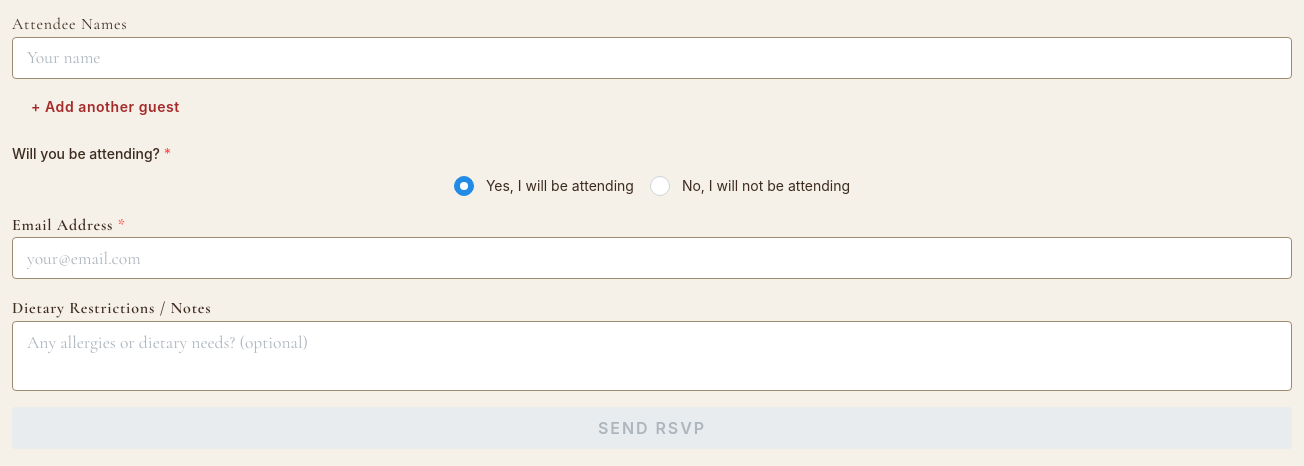
Scenario: RsvpForm › form submission › shows a success message after a successful submission
The width and height of the screenshot is (1304, 466).
Type "Jon Bernard" into the field with placeholder "Your name" at coordinates (652, 58), box [12, 37, 1292, 79]
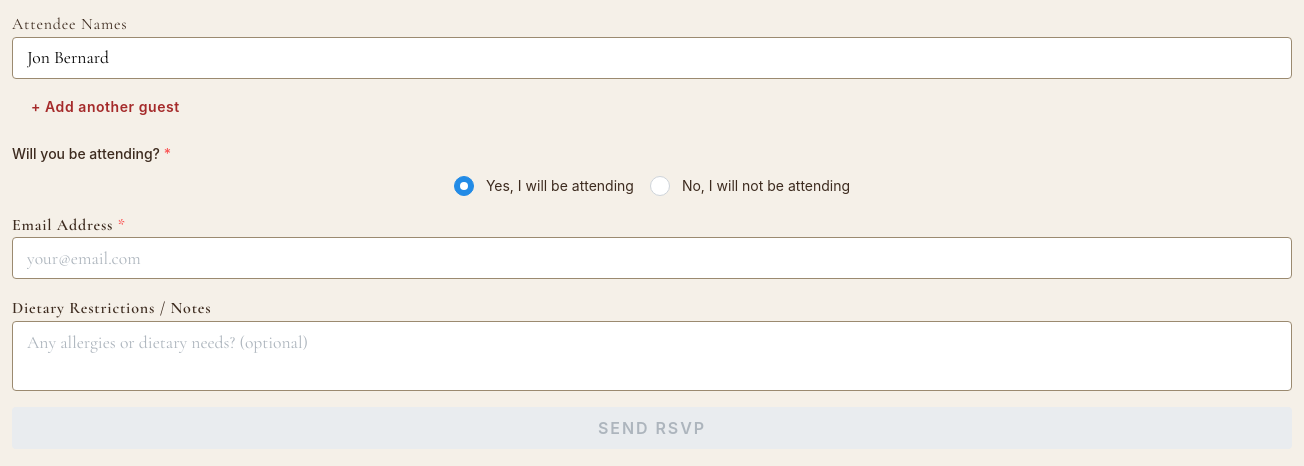
Type "jon@example.com" into the field with placeholder "your@email.com" at coordinates (652, 258), box [12, 237, 1292, 279]
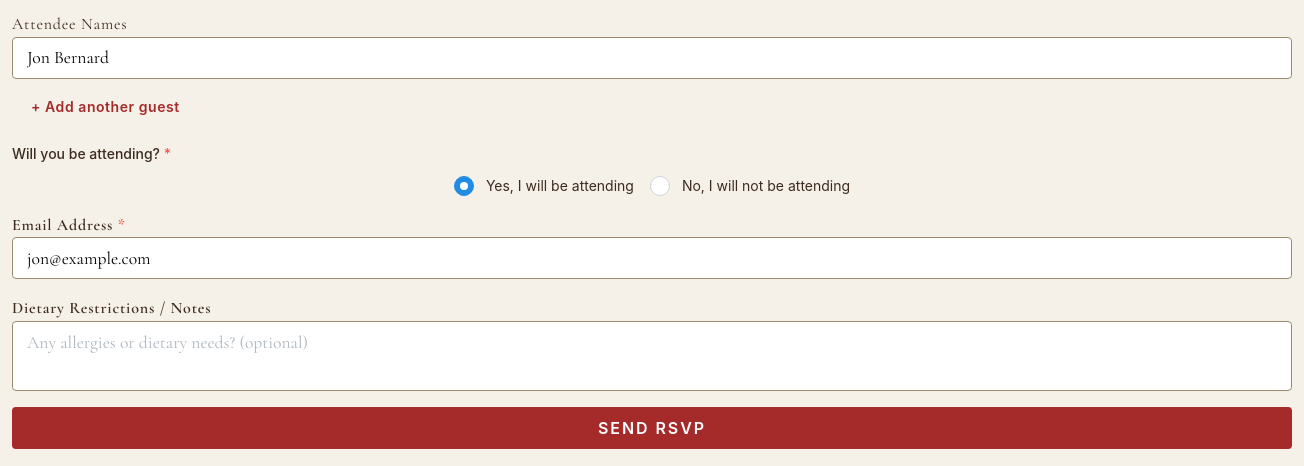
Click the button "SEND RSVP" at coordinates (652, 428), box [12, 407, 1292, 449]
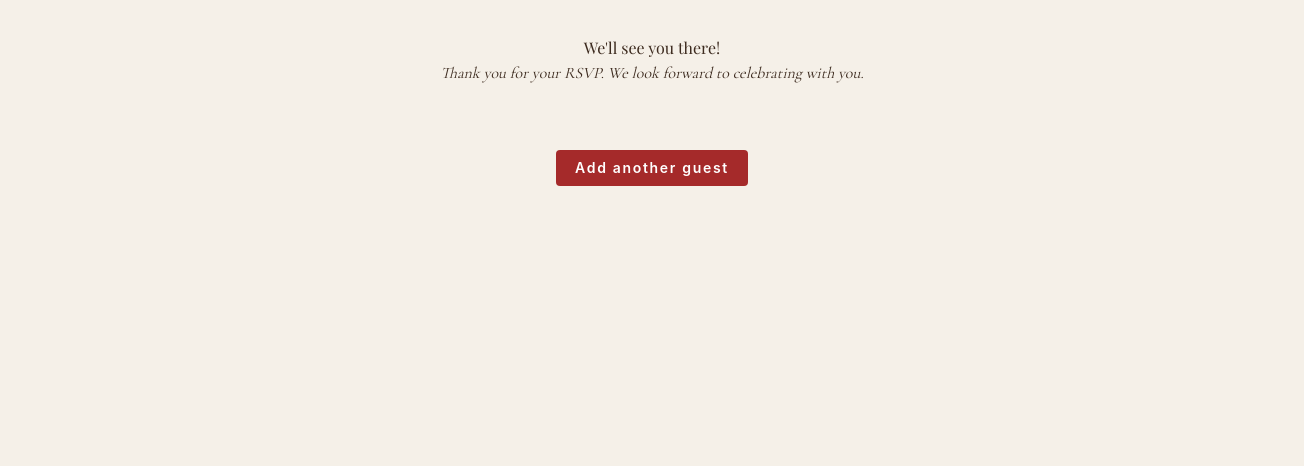
Now the text "We'll see you there!" is shown, box [584, 37, 720, 58]
